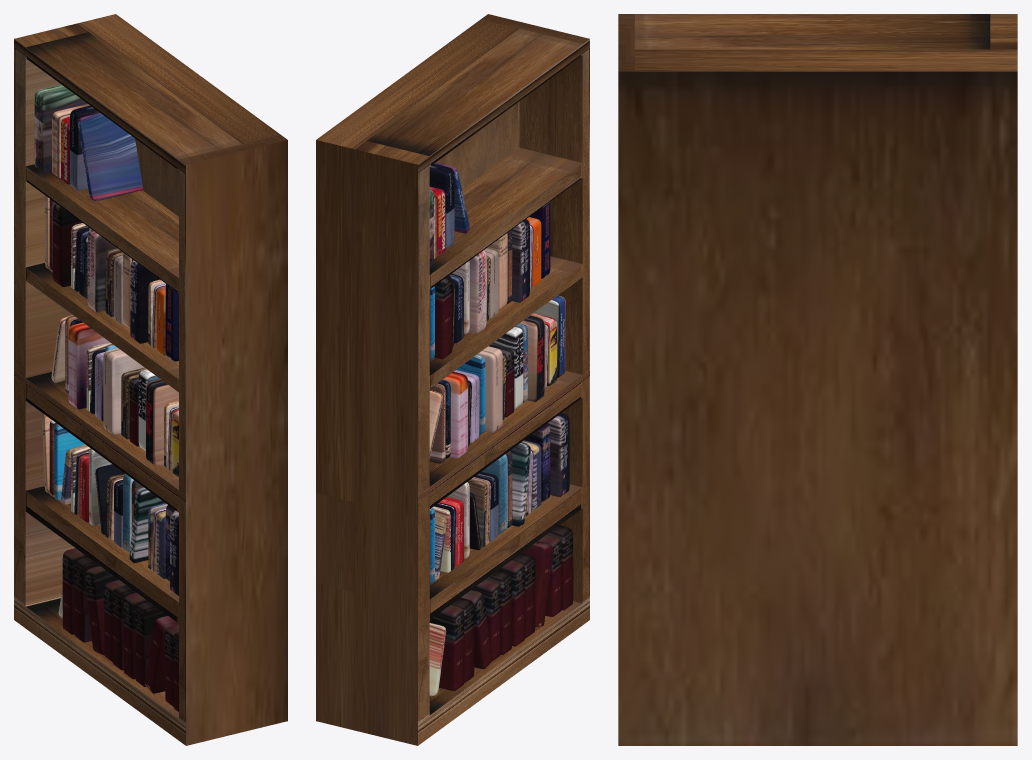
Rendered from bookshelf_cc0.glb.
The picture shows the model from 3 angles, left to right: view 1: azimuth 30°, elevation 25°; view 2: azimuth 150°, elevation 25°; view 3: azimuth 270°, elevation 25°; orthographic projection. The views are drawn at different scales.
Parts seen in each view (by area): view 1: Bookshelf_0; view 2: Bookshelf_0; view 3: Bookshelf_0.
Boxes of the visible parts, bbox=[...] form: Bookshelf_0: bbox=[14, 14, 287, 745]; Bookshelf_0: bbox=[316, 14, 589, 745]; Bookshelf_0: bbox=[618, 14, 1017, 745].
Size of the model in its own units: 0.2109 by 1.15 by 0.617.
Materials: 2 (2 with a texture image).
